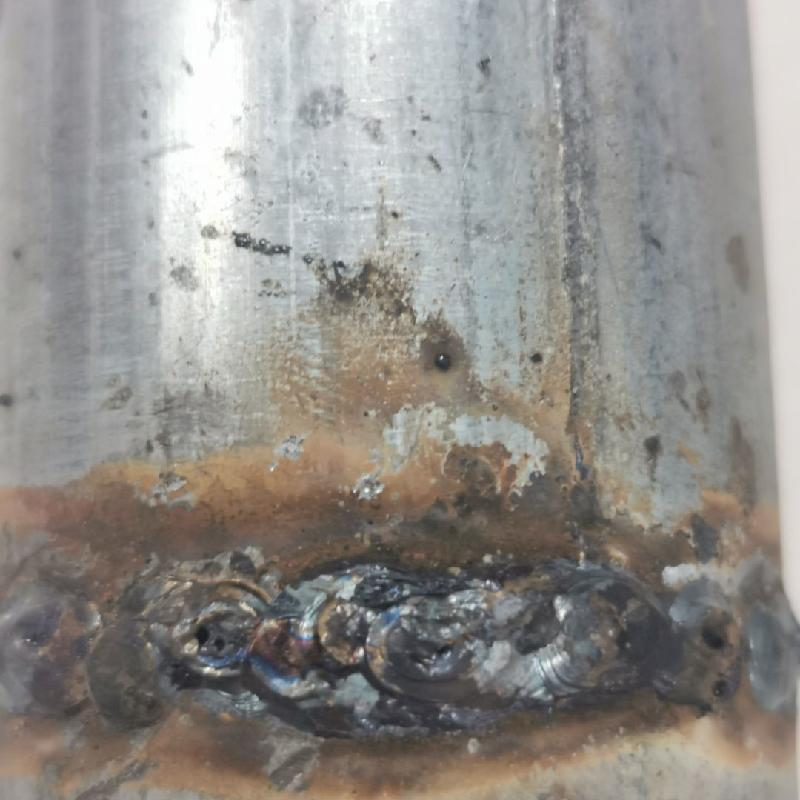Surface_pores: (694, 610, 743, 707), (178, 610, 237, 665)
crater: (168, 577, 479, 729)
wrong_size: (491, 565, 799, 718)
